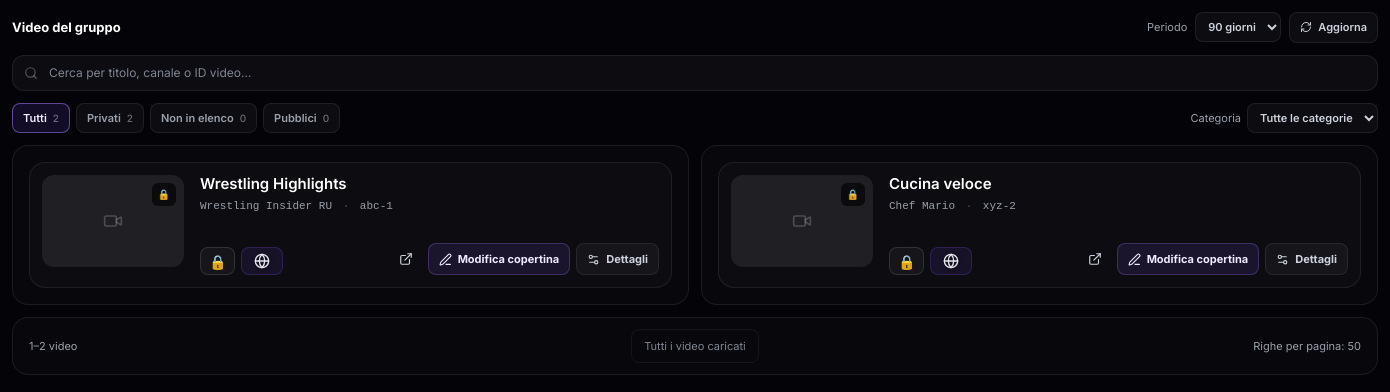
GroupYouTubeVideos › filters the grid by free-text search across title, channel and video id
This screenshot has width=1390, height=392.
expect the text "Wrestling Highlights" is shown: met, box [200,174,346,193]
expect the text "Cucina veloce" is shown: met, box [889,174,992,193]
Note: Match by channel name (case-insensitive).
In the search field with test id "group-videos-search": [695, 72] box [12,54,1378,90], type "wrestling"
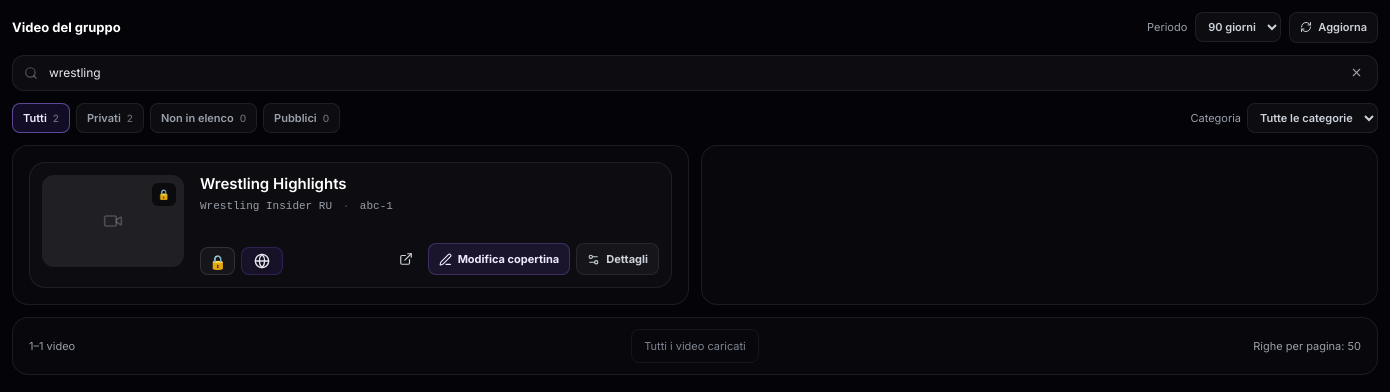
expect the text "Wrestling Highlights" is shown: met, box [200,174,346,193]
expect the button "Cucina veloce" is gone: met
Note: Match by video id.
Replace the text in the search field with test id "group-videos-search" with "xyz-2": [695, 72] box [12,54,1378,90]
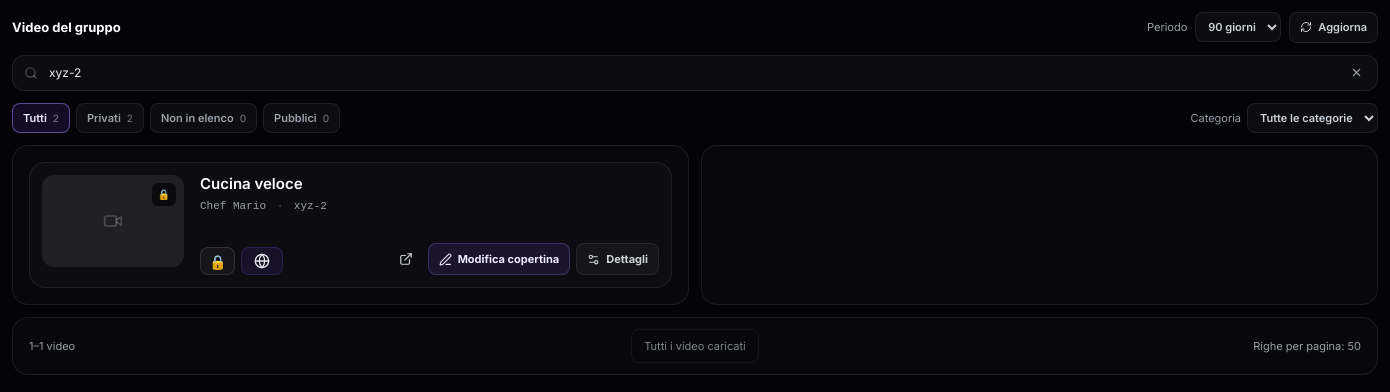
expect the text "Cucina veloce" is shown: met, box [200,174,302,193]
expect the button "Wrestling Highlights" is gone: met
Note: Clear restores the whole list.
Click the button with test id "group-videos-search-clear": [1356, 72] box [1344,60,1368,84]
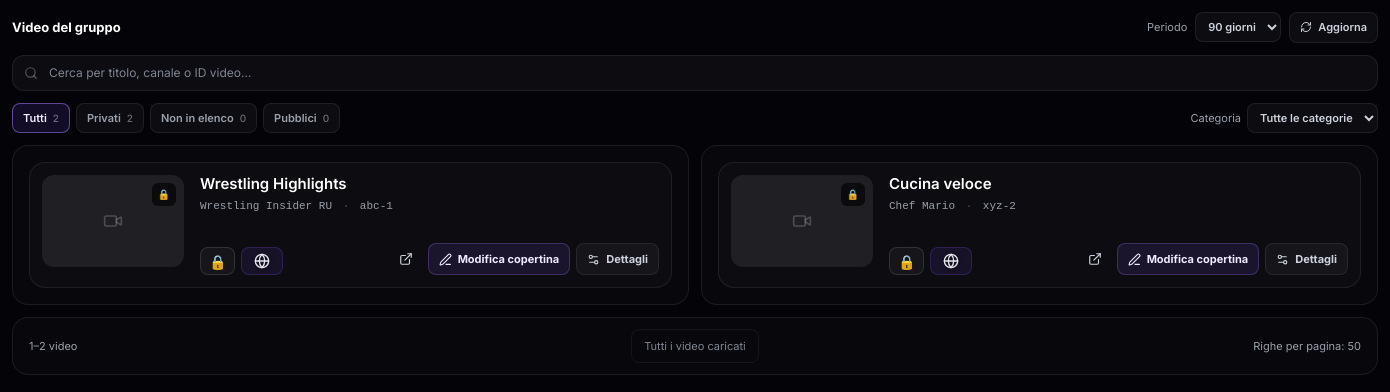
expect the text "Cucina veloce" is shown: met, box [889,174,992,193]
expect the text "Wrestling Highlights" is shown: met, box [200,174,346,193]
